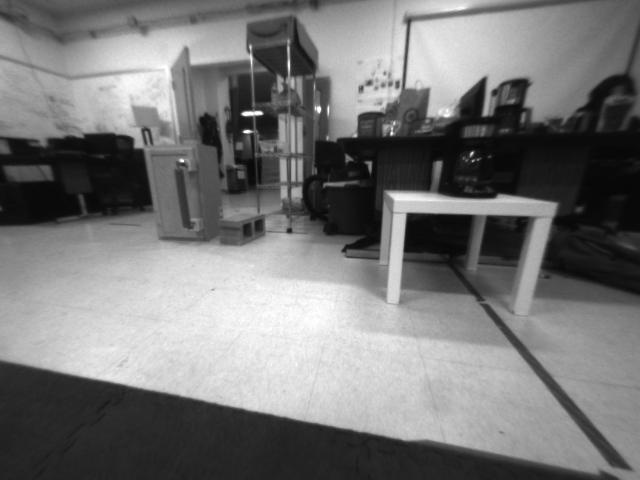coffee_pot: (433, 114, 500, 201)
